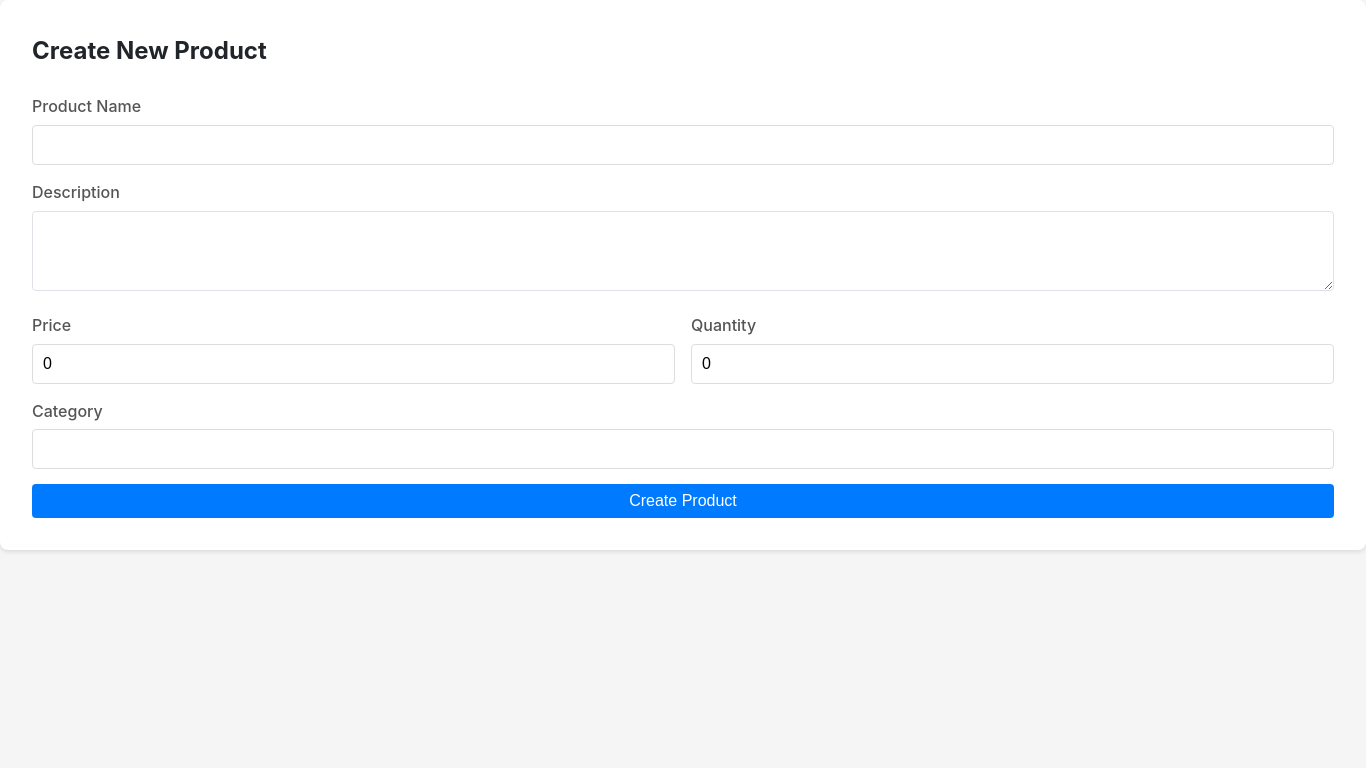
Scenario: ProductForm › should show error when product name is empty
Type "Test Description" into the text box labelled "Description" at x=683, y=251, box [32,211,1334,291]
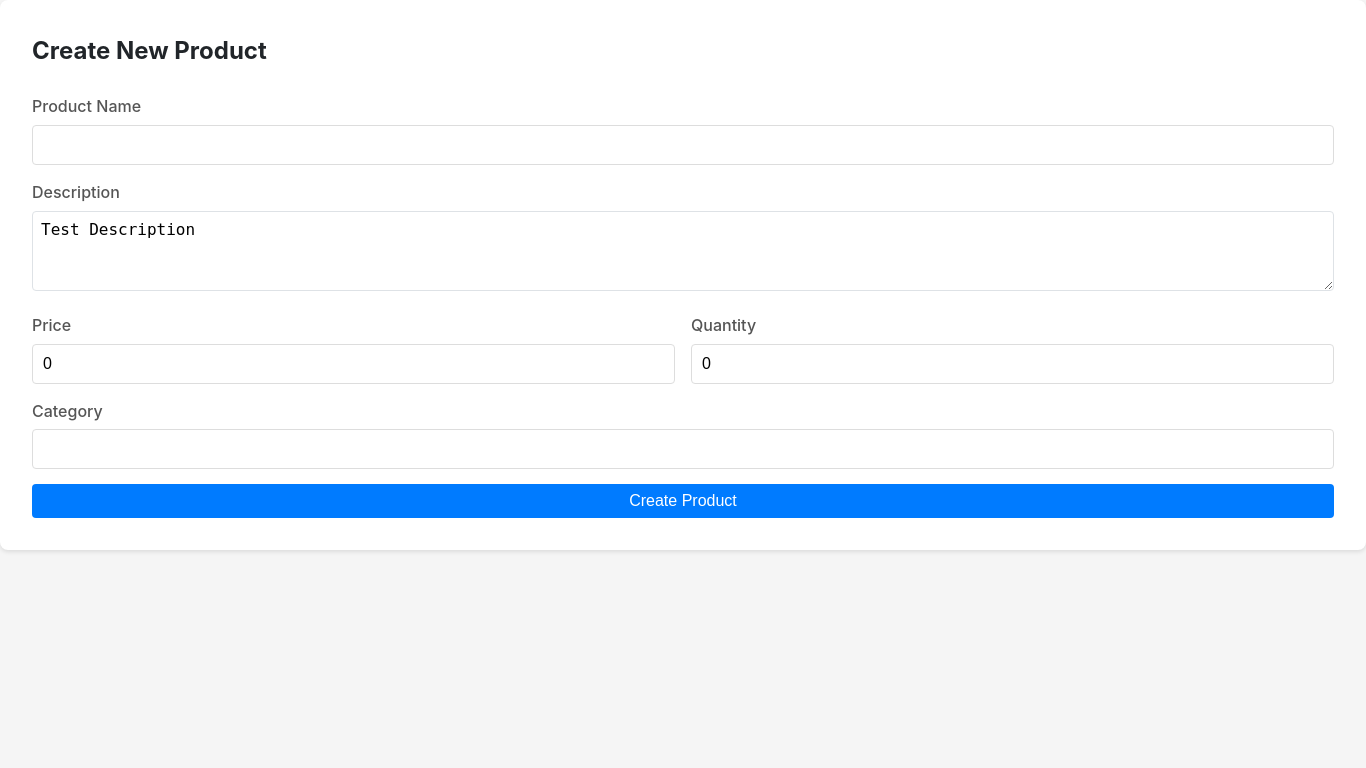
Replace the text in the number field labelled "Price" with "29.99" at x=354, y=364, box [32,344,675,384]
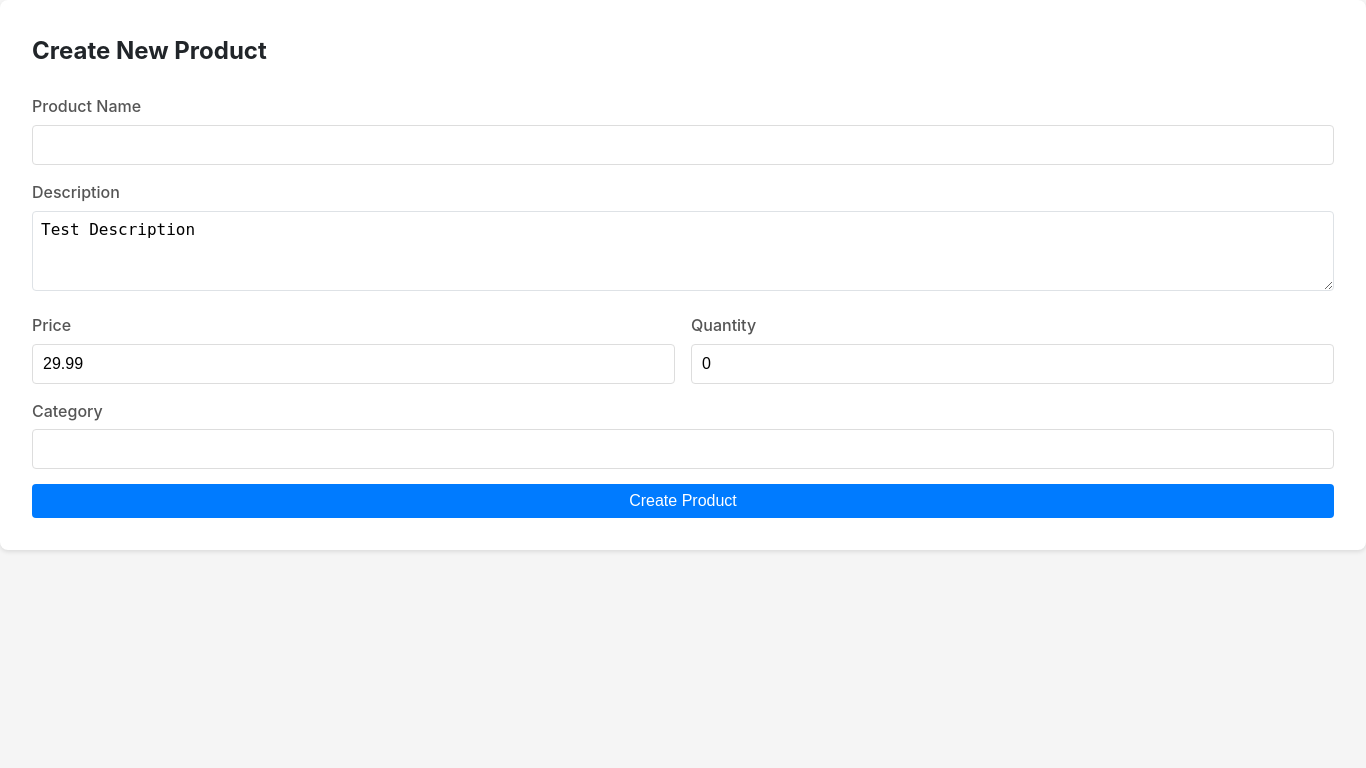
Replace the text in the number field labelled "Quantity" with "10" at x=1012, y=364, box [691,344,1334,384]
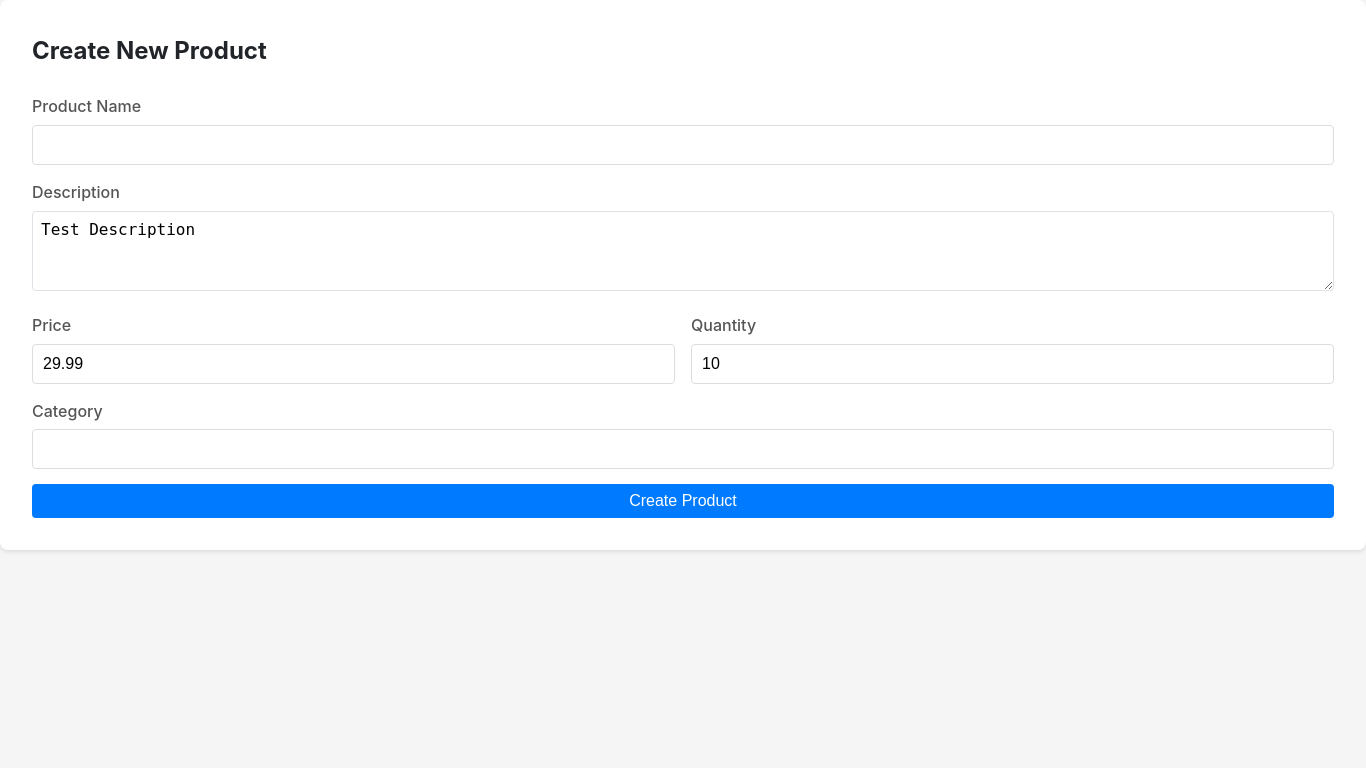
Type "Electronics" into the field labelled "Category" at x=683, y=449, box [32,429,1334,469]
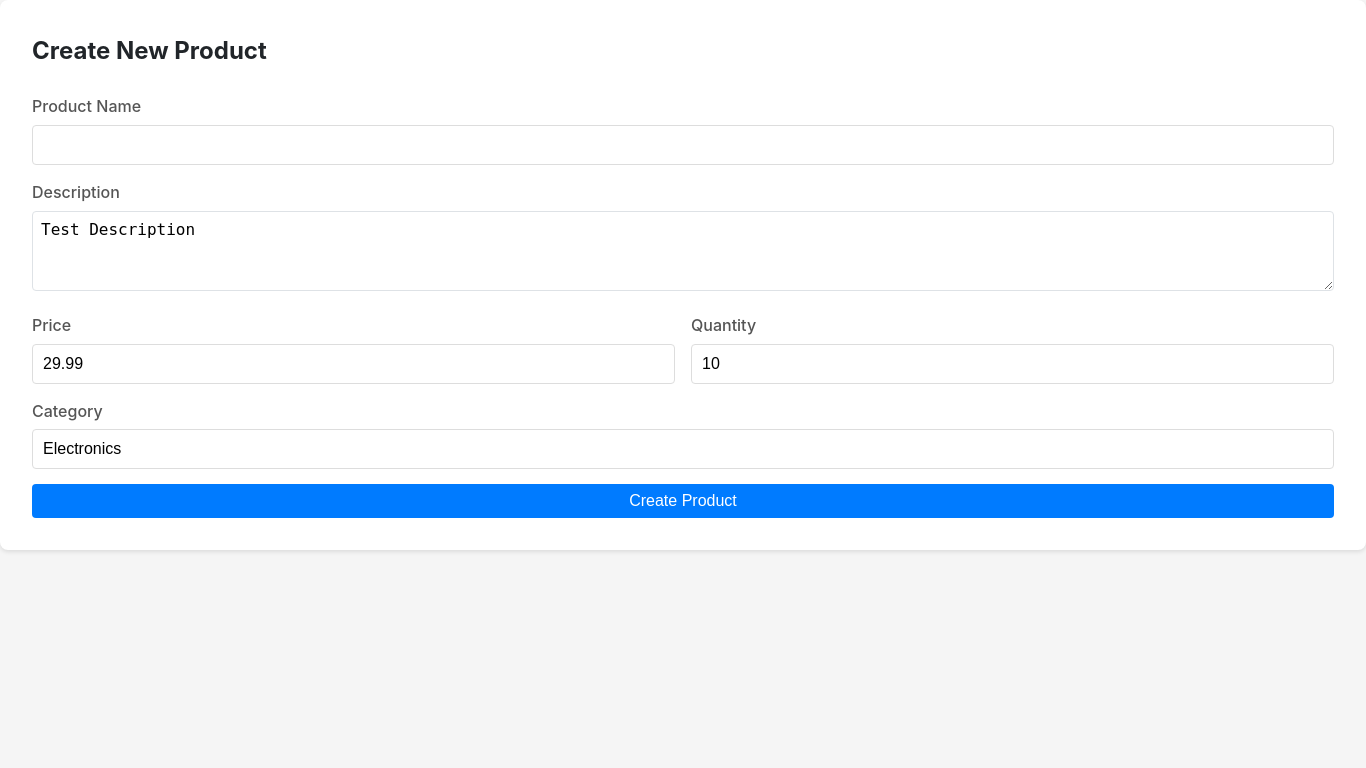
Submit the form labelled "Product Name", box [32,94,1334,518]
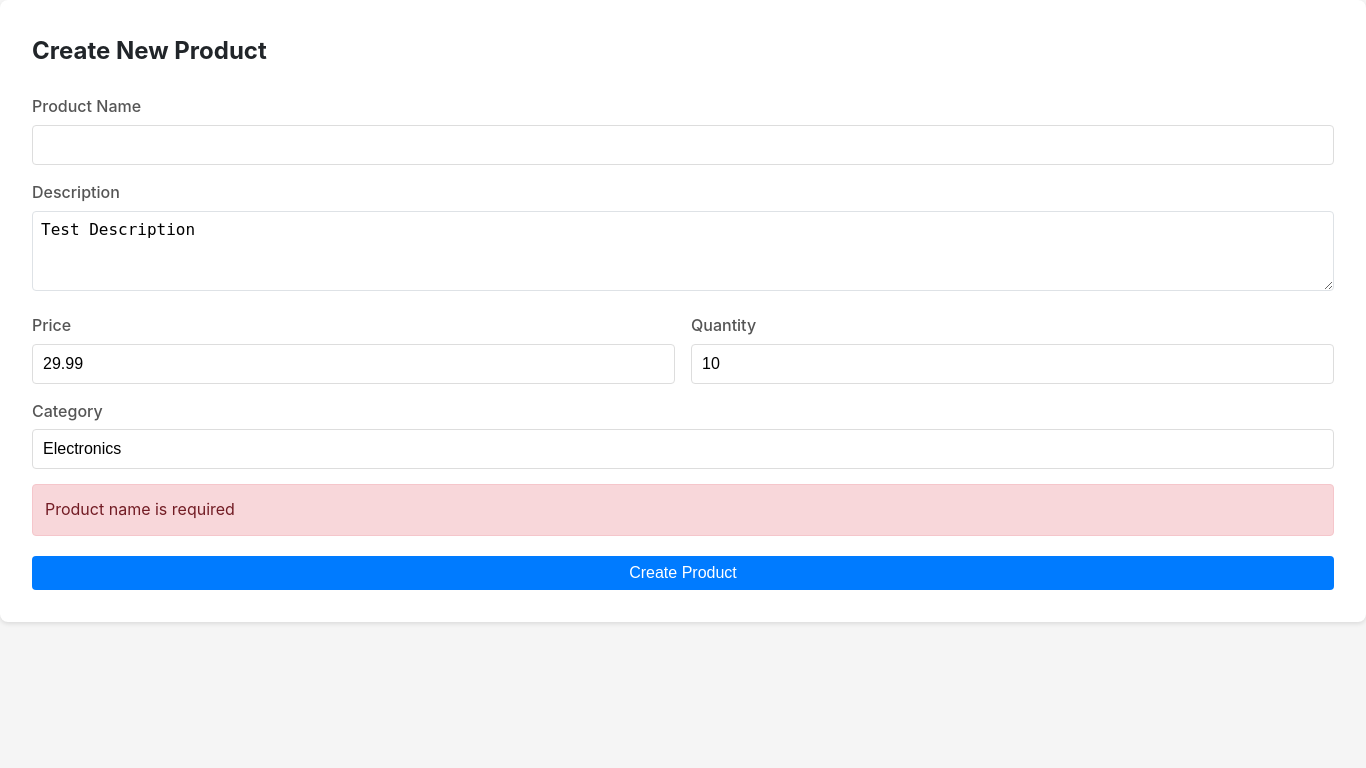
Check: the text "Product name is required" is shown, box [32,484,1334,536]
